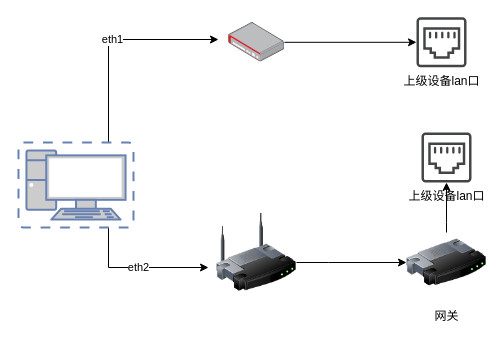
Some shapes in this 503 by 341 pixel diagram are drawn without their labels. The shapes that lost their labels are listed below. From the top down, each one's box as (x1, y1, x2, y2) in pixels, then its label:
(228, 22, 284, 62): 交换机
(216, 212, 296, 292): 路由器
